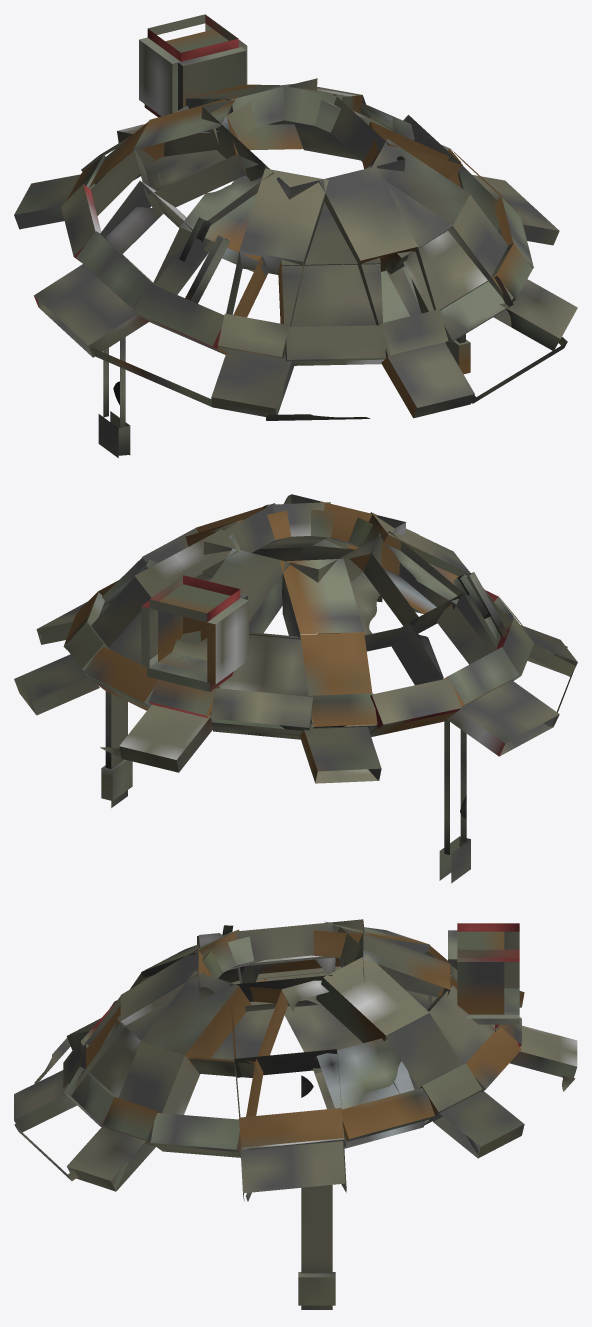
The model's file is saper_h.obj.
The picture shows the model from 3 angles, top to bottom: view 1: azimuth 30°, elevation 25°; view 2: azimuth 150°, elevation 25°; view 3: azimuth 270°, elevation 25°; orthographic projection. The views are drawn at different scales.
Visible parts, largest first — view 1: saper_h; view 2: saper_h; view 3: saper_h.
Part boxes in pixels (left/top/right/bottom): saper_h: left=14, top=14, right=577, bottom=457; saper_h: left=14, top=494, right=577, bottom=883; saper_h: left=14, top=919, right=577, bottom=1309.
Bounding box in the file's own units: 1.02 × 0.6562 × 1.13.
